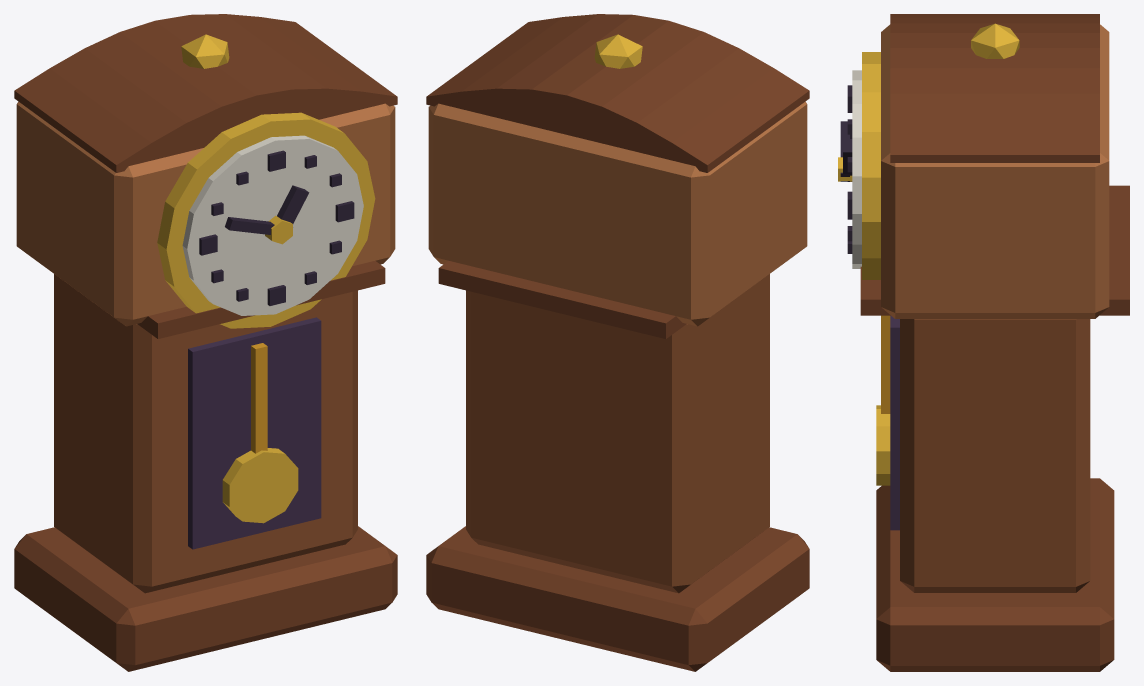
The model's file is habitat_prop_chrono.fbx.
The picture shows the model from 3 angles, left to right: view 1: azimuth 30°, elevation 25°; view 2: azimuth 150°, elevation 25°; view 3: azimuth 270°, elevation 25°; orthographic projection. The views are drawn at different scales.
Visible parts, largest first — view 1: habitat_prop_chrono; view 2: habitat_prop_chrono; view 3: habitat_prop_chrono.
Part boxes in pixels (box(x1,y1,x2,y2)): habitat_prop_chrono: box(14, 14, 397, 671); habitat_prop_chrono: box(426, 14, 809, 671); habitat_prop_chrono: box(838, 14, 1129, 671).
Size of the model in its own units: 0.7 by 1.35 by 0.6128.
